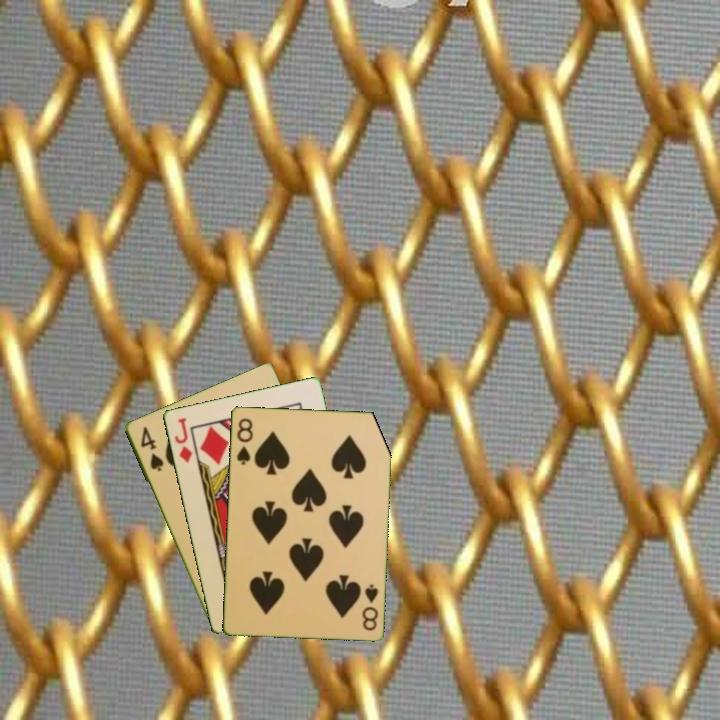4s: (137, 423, 166, 474)
8s: (358, 580, 381, 633), (233, 415, 255, 468)
Jd: (170, 414, 195, 466)
